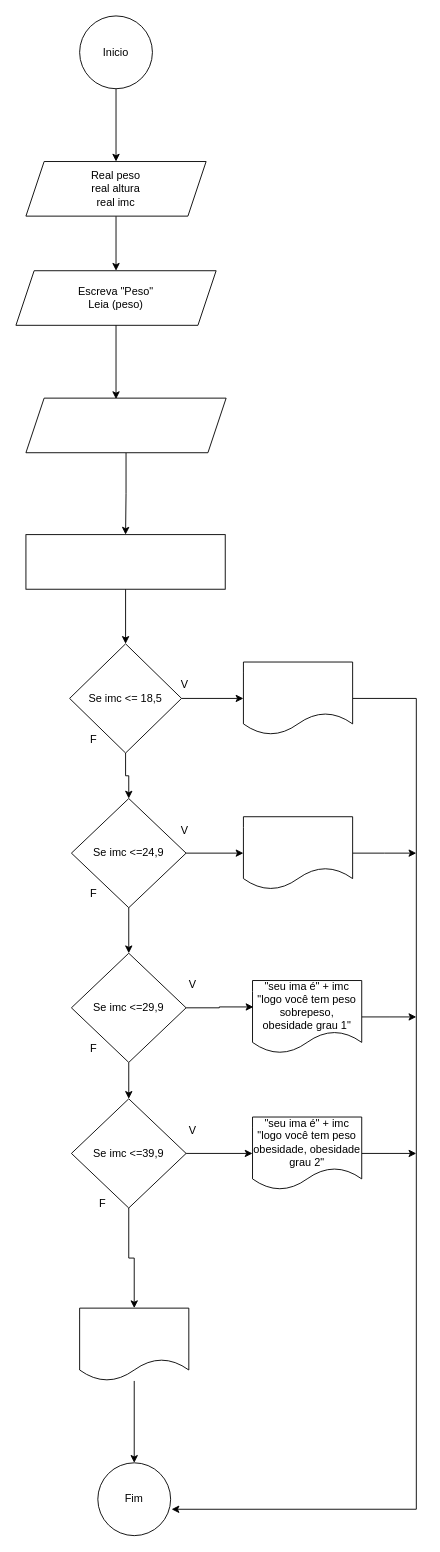
Image size: 440x1552. Some labels were removed from this diagram. Here are the shapes that lost their labels. From the top down, the centre of each, then its label:
[125,425]: Escreva "Altura" Leia (altura)
[125,561]: imc = peso/(altura * altura)
[298,698]: "seu ima é" + imc "logo você tem magreza, obesidade grau 0
[298,853]: "seu ima é" + imc "logo você tem peso normal, obesidade grau 0"
[134,1344]: "seu ima é" + imc "logo você tem peso obesidade grave, obesidade grau 3"
